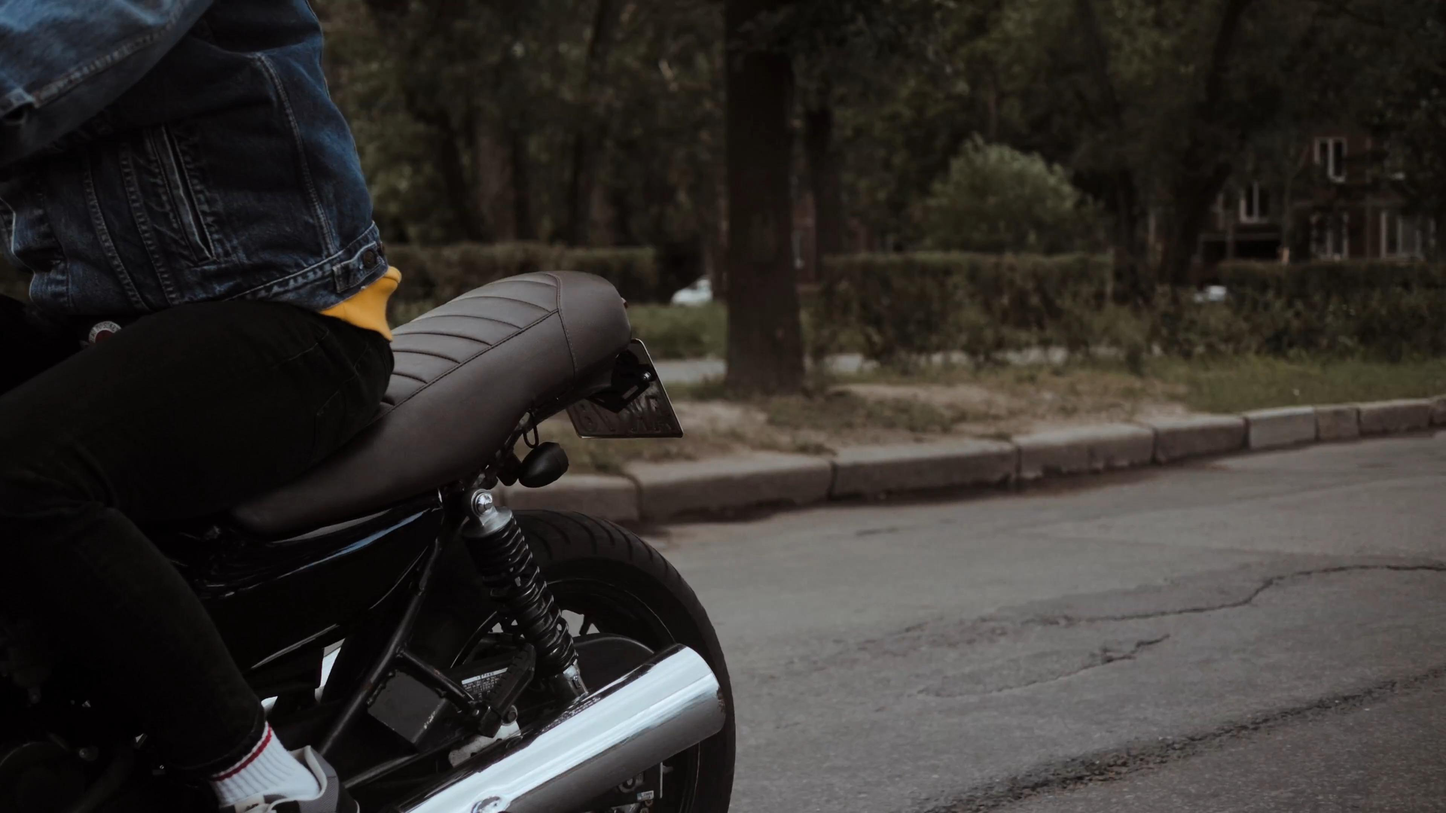driver: (0, 0, 737, 813)
